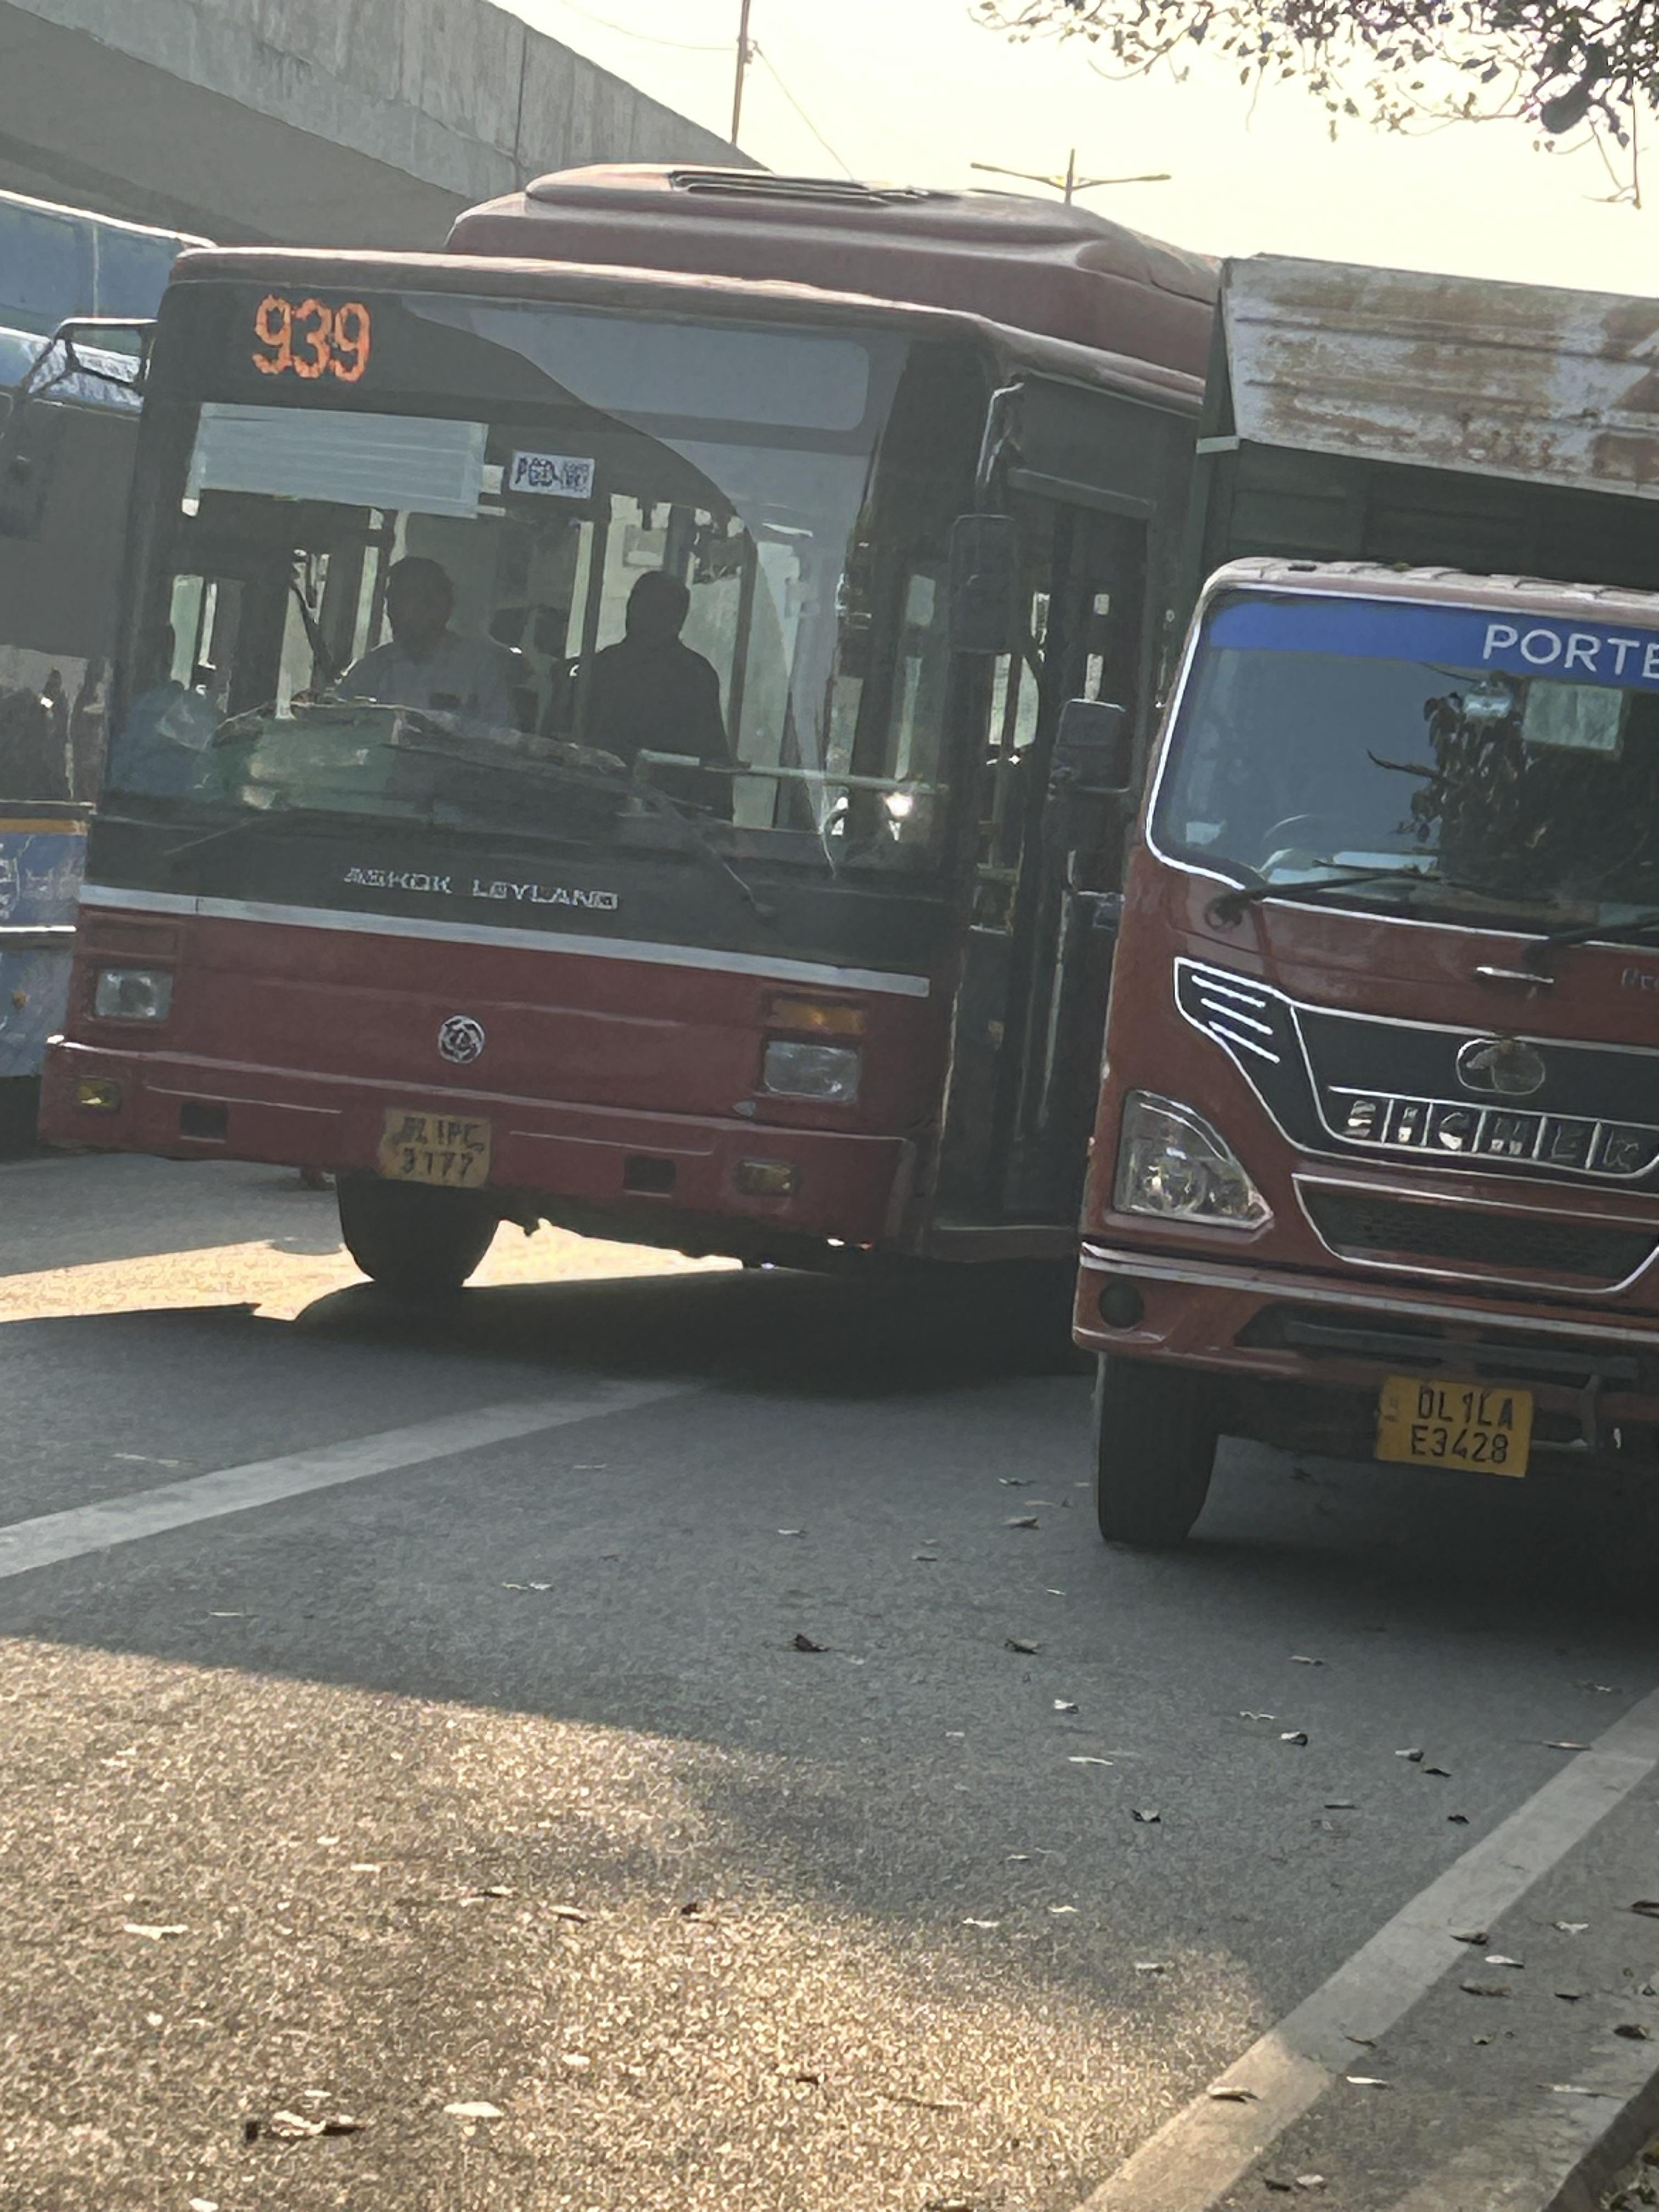Bus: (33, 236, 1026, 1245)
Display Board: (159, 247, 927, 499)
License Plate: (335, 1086, 538, 1207)
